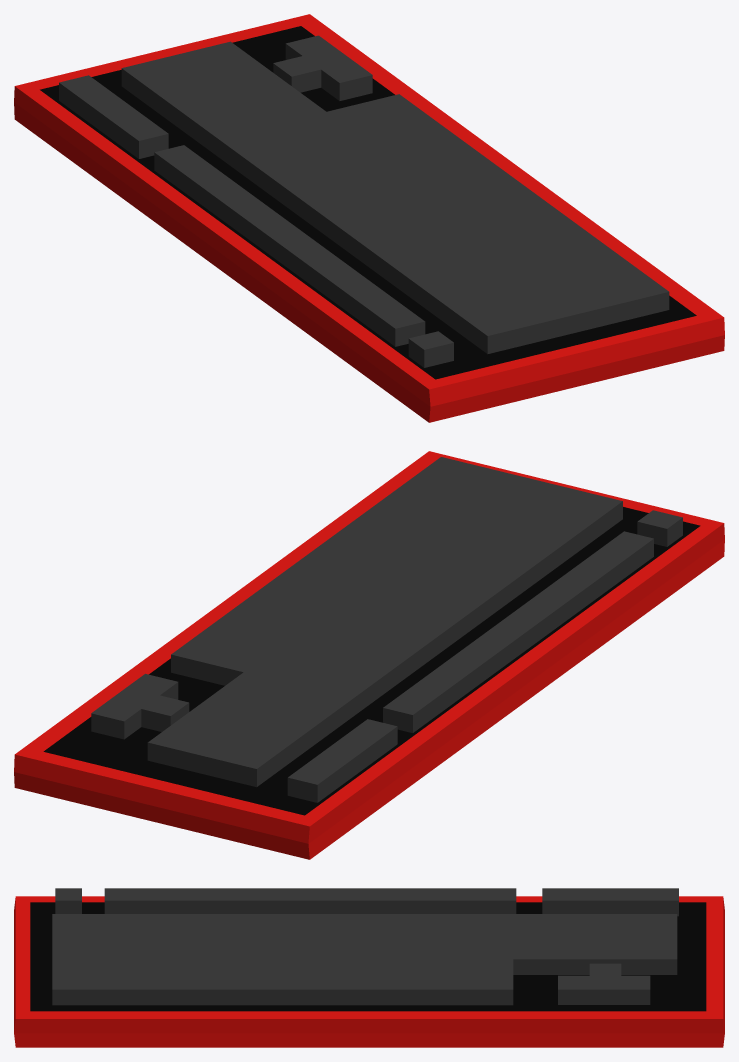
The model's file is keyboardExp.fbx.
3 renders of one model, top to bottom at view 1: azimuth 30°, elevation 25°; view 2: azimuth 150°, elevation 25°; view 3: azimuth 270°, elevation 25°, orthographic. The views are drawn at different scales.
Parts seen in each view (by area): view 1: Boody.001; view 2: Boody.001; view 3: Boody.001.
Part boxes in pixels (x1=…): Boody.001: x1=14, y1=14, x2=724, y2=422; Boody.001: x1=14, y1=451, x2=724, y2=859; Boody.001: x1=14, y1=888, x2=724, y2=1047.
Size of the model in its own units: 74 by 12.35 by 181.
